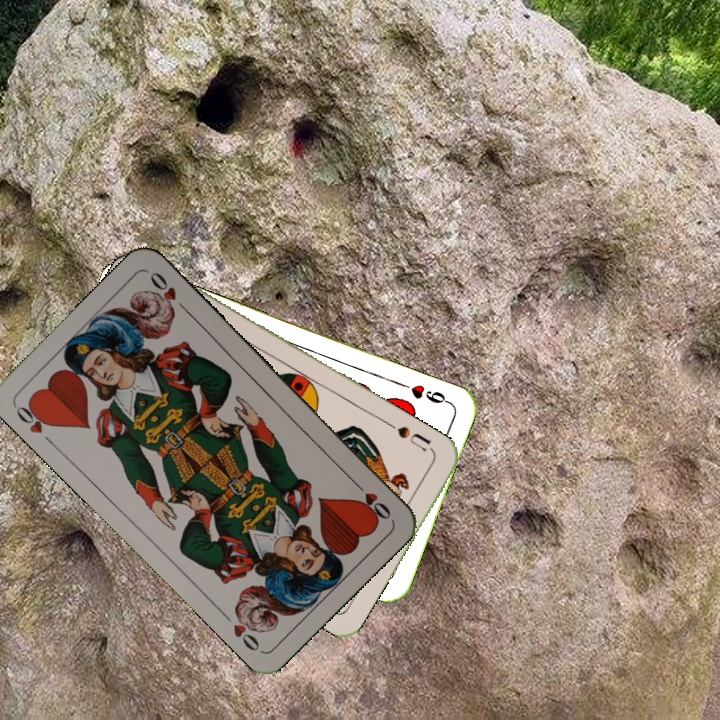H9: (396, 378, 453, 407)
HO: (11, 397, 57, 449), (348, 475, 394, 522)
SU: (384, 418, 437, 456)
